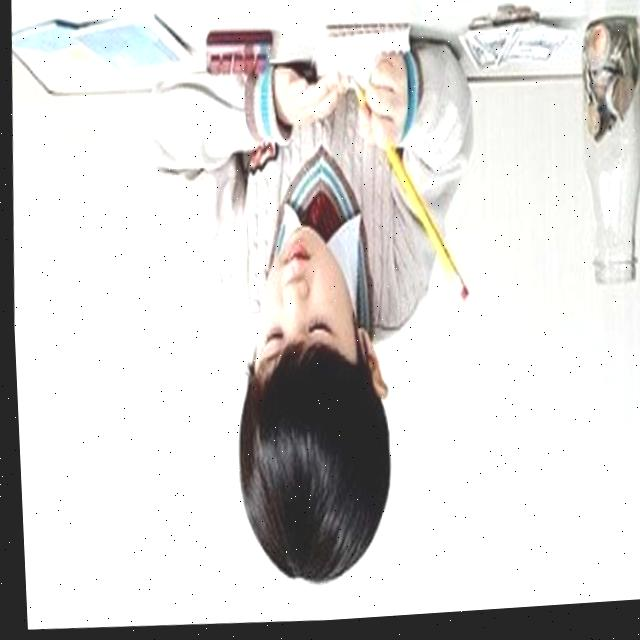studying-person: (53, 0, 506, 618)
